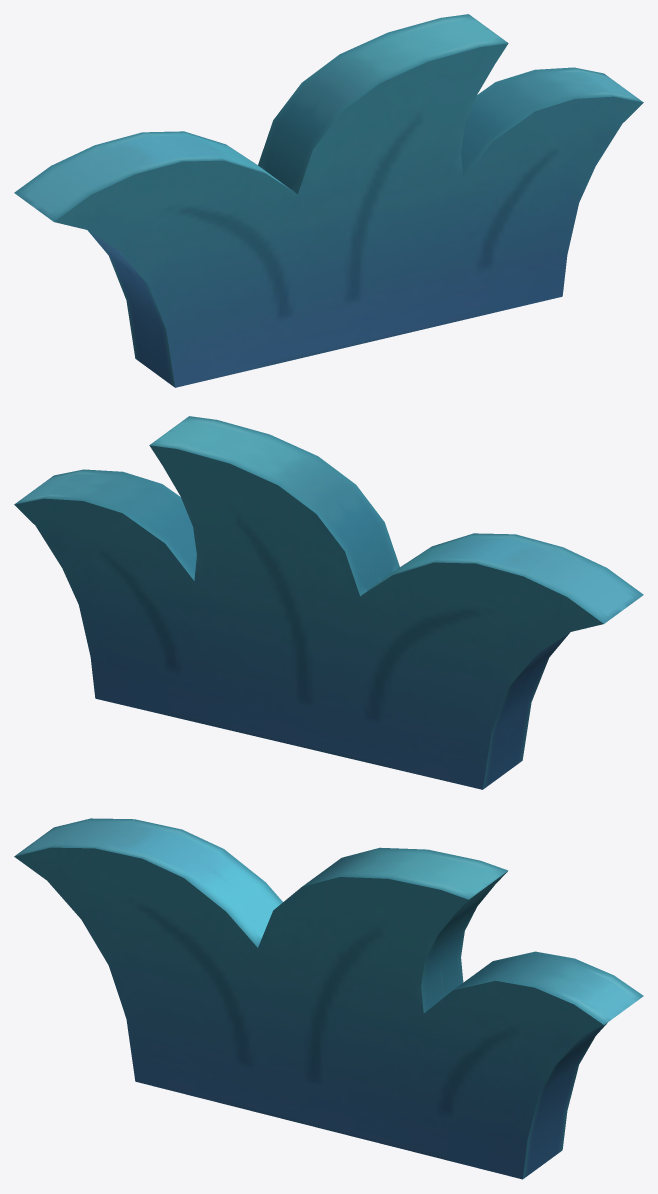
Rendered from 宝宝巴士-主框架-推送地图-过家家-草01.FBX.
3 views of the same model, one above another, from view 1: azimuth 30°, elevation 25°; view 2: azimuth 150°, elevation 25°; view 3: azimuth 330°, elevation 25° (orthographic).
Visible parts, largest first — view 1: 宝宝巴士-主框架-推送地图-过家家-草01; view 2: 宝宝巴士-主框架-推送地图-过家家-草01; view 3: 宝宝巴士-主框架-推送地图-过家家-草01.
Boxes of the visible parts, x1=… form: 宝宝巴士-主框架-推送地图-过家家-草01: x1=14, y1=14, x2=643, y2=387; 宝宝巴士-主框架-推送地图-过家家-草01: x1=14, y1=416, x2=643, y2=789; 宝宝巴士-主框架-推送地图-过家家-草01: x1=14, y1=818, x2=643, y2=1179.
Bounding box in the file's own units: 73.98 × 32.3 × 8.66.
